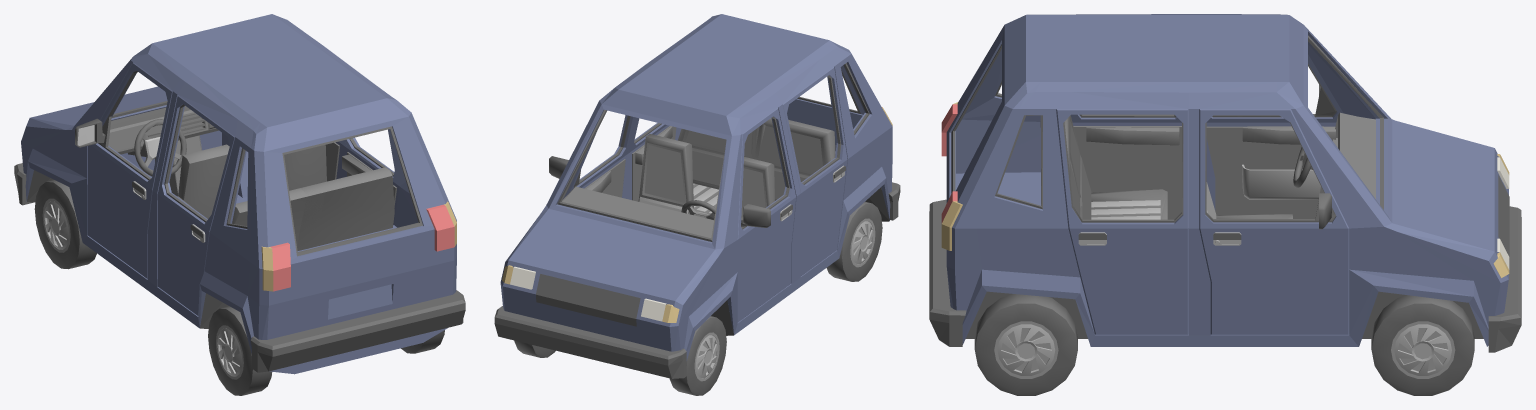
The model's file is car-hatch.glb.
3 renders of one model, left to right at view 1: azimuth 30°, elevation 25°; view 2: azimuth 150°, elevation 25°; view 3: azimuth 270°, elevation 25°, orthographic. The views are drawn at different scales.
Parts seen in each view (by area): view 1: Chassis_Chassis_0, Interior_InteriorPanel_0 (×2), Chassis_Bumpers_0, FL_Door_Chassis_0, RL_Door_Chassis_0, FL_Wheel_Tire_0, RL_Wheel_Tire_0, Brake_Lights_Brake_lights_0, FL_Door_Bumpers_0, FL_Wheel_Handler_0, RL_Wheel_Handler_0, Steerwheel_InteriorPanel_0 (+8 smaller); view 2: Chassis_Chassis_0, Chassis_Bumpers_0, Interior_InteriorPanel_0, FL_Door_Chassis_0, RL_Door_Chassis_0, Interior_Handler_0, RL_Wheel_Tire_0, FL_Wheel_Tire_0, FL_Door_Bumpers_0, FR_Door_Chassis_0, Front_Lights_Front_lights_0, FR_Door_InteriorPanel_0 (+9 smaller); view 3: Chassis_Chassis_0, FR_Door_Chassis_0, RR_Door_Chassis_0, Chassis_Bumpers_0, RL_Door_InteriorPanel_0, FL_Door_InteriorPanel_0, RR_Wheel_Tire_0, FR_Wheel_Tire_0, Interior_InteriorPanel_0, FL_Door_Handler_0, RR_Wheel_Handler_0, FR_Wheel_Handler_0 (+10 smaller).
Part boxes in pixels (box(x1,y1,x2,y2)): Chassis_Chassis_0: box(21, 14, 456, 374); Interior_InteriorPanel_0 (×2): box(108, 106, 394, 250); Chassis_Bumpers_0: box(14, 101, 465, 372); FL_Door_Chassis_0: box(87, 62, 172, 278); RL_Door_Chassis_0: box(157, 95, 235, 315); FL_Wheel_Tire_0: box(34, 180, 96, 269); RL_Wheel_Tire_0: box(208, 306, 272, 395); Brake_Lights_Brake_lights_0: box(270, 204, 454, 291); FL_Door_Bumpers_0: box(75, 71, 151, 195); FL_Wheel_Handler_0: box(44, 201, 69, 249); RL_Wheel_Handler_0: box(217, 328, 242, 376); Steerwheel_InteriorPanel_0: box(134, 119, 186, 176); Chassis_Chassis_0: box(500, 14, 892, 360); Chassis_Bumpers_0: box(494, 63, 900, 378); Interior_InteriorPanel_0: box(562, 118, 835, 237); FL_Door_Chassis_0: box(737, 108, 796, 322); RL_Door_Chassis_0: box(782, 67, 847, 276); Interior_Handler_0: box(639, 142, 767, 213); RL_Wheel_Tire_0: box(826, 201, 882, 281); FL_Wheel_Tire_0: box(669, 316, 726, 395); FL_Door_Bumpers_0: box(741, 116, 792, 229); FR_Door_Chassis_0: box(570, 115, 634, 196); Front_Lights_Front_lights_0: box(510, 266, 666, 321); FR_Door_InteriorPanel_0: box(584, 159, 625, 197); Chassis_Chassis_0: box(946, 14, 1508, 346); FR_Door_Chassis_0: box(1199, 109, 1349, 334); RR_Door_Chassis_0: box(1056, 109, 1188, 334); Chassis_Bumpers_0: box(929, 35, 1521, 352); RL_Door_InteriorPanel_0: box(1073, 126, 1181, 219); FL_Door_InteriorPanel_0: box(1206, 126, 1335, 218); RR_Wheel_Tire_0: box(974, 294, 1077, 395); FR_Wheel_Tire_0: box(1371, 295, 1474, 395); Interior_InteriorPanel_0: box(1064, 112, 1375, 219); FL_Door_Handler_0: box(1242, 164, 1320, 199); RR_Wheel_Handler_0: box(997, 324, 1055, 375); FR_Wheel_Handler_0: box(1394, 324, 1451, 375).
Bounding box in the file's own units: 2.08 × 2.08 × 3.8.
